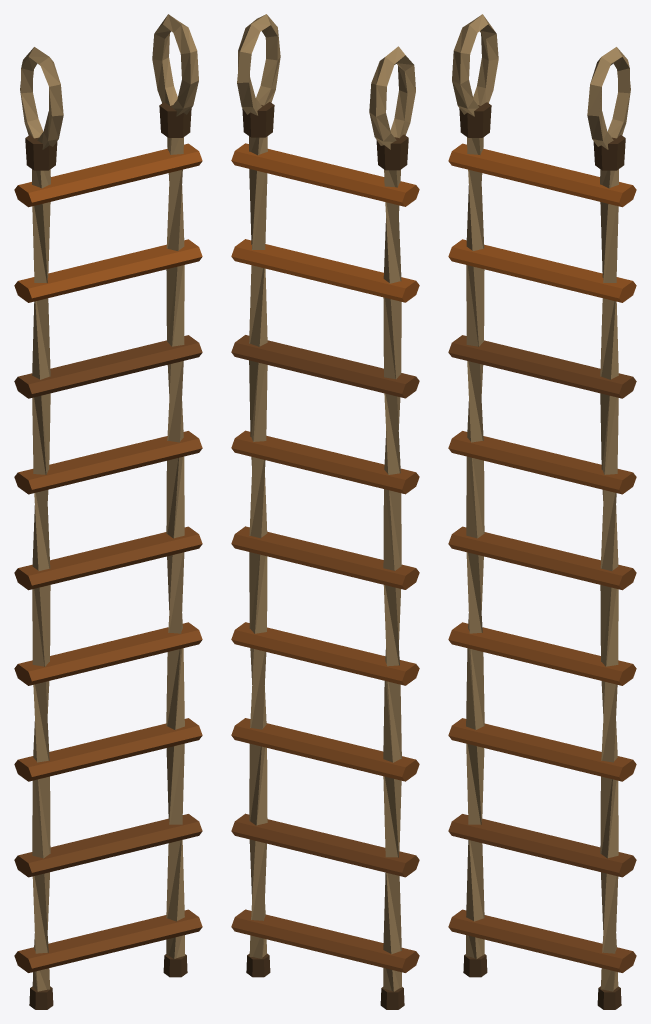
Rendered from rope-ladder-baf4ac.glb.
3 views of the same model, side by side, from view 1: azimuth 30°, elevation 25°; view 2: azimuth 150°, elevation 25°; view 3: azimuth 330°, elevation 25° (orthographic).
Visible parts, largest first — view 1: rope-ladder-body; view 2: rope-ladder-body; view 3: rope-ladder-body.
Part boxes in pixels (x1,y1,x2,y2): rope-ladder-body: (14, 14, 202, 1009); rope-ladder-body: (231, 14, 419, 1009); rope-ladder-body: (448, 14, 636, 1009).
Size of the model in its own units: 0.56 by 2.99 by 0.2135.
